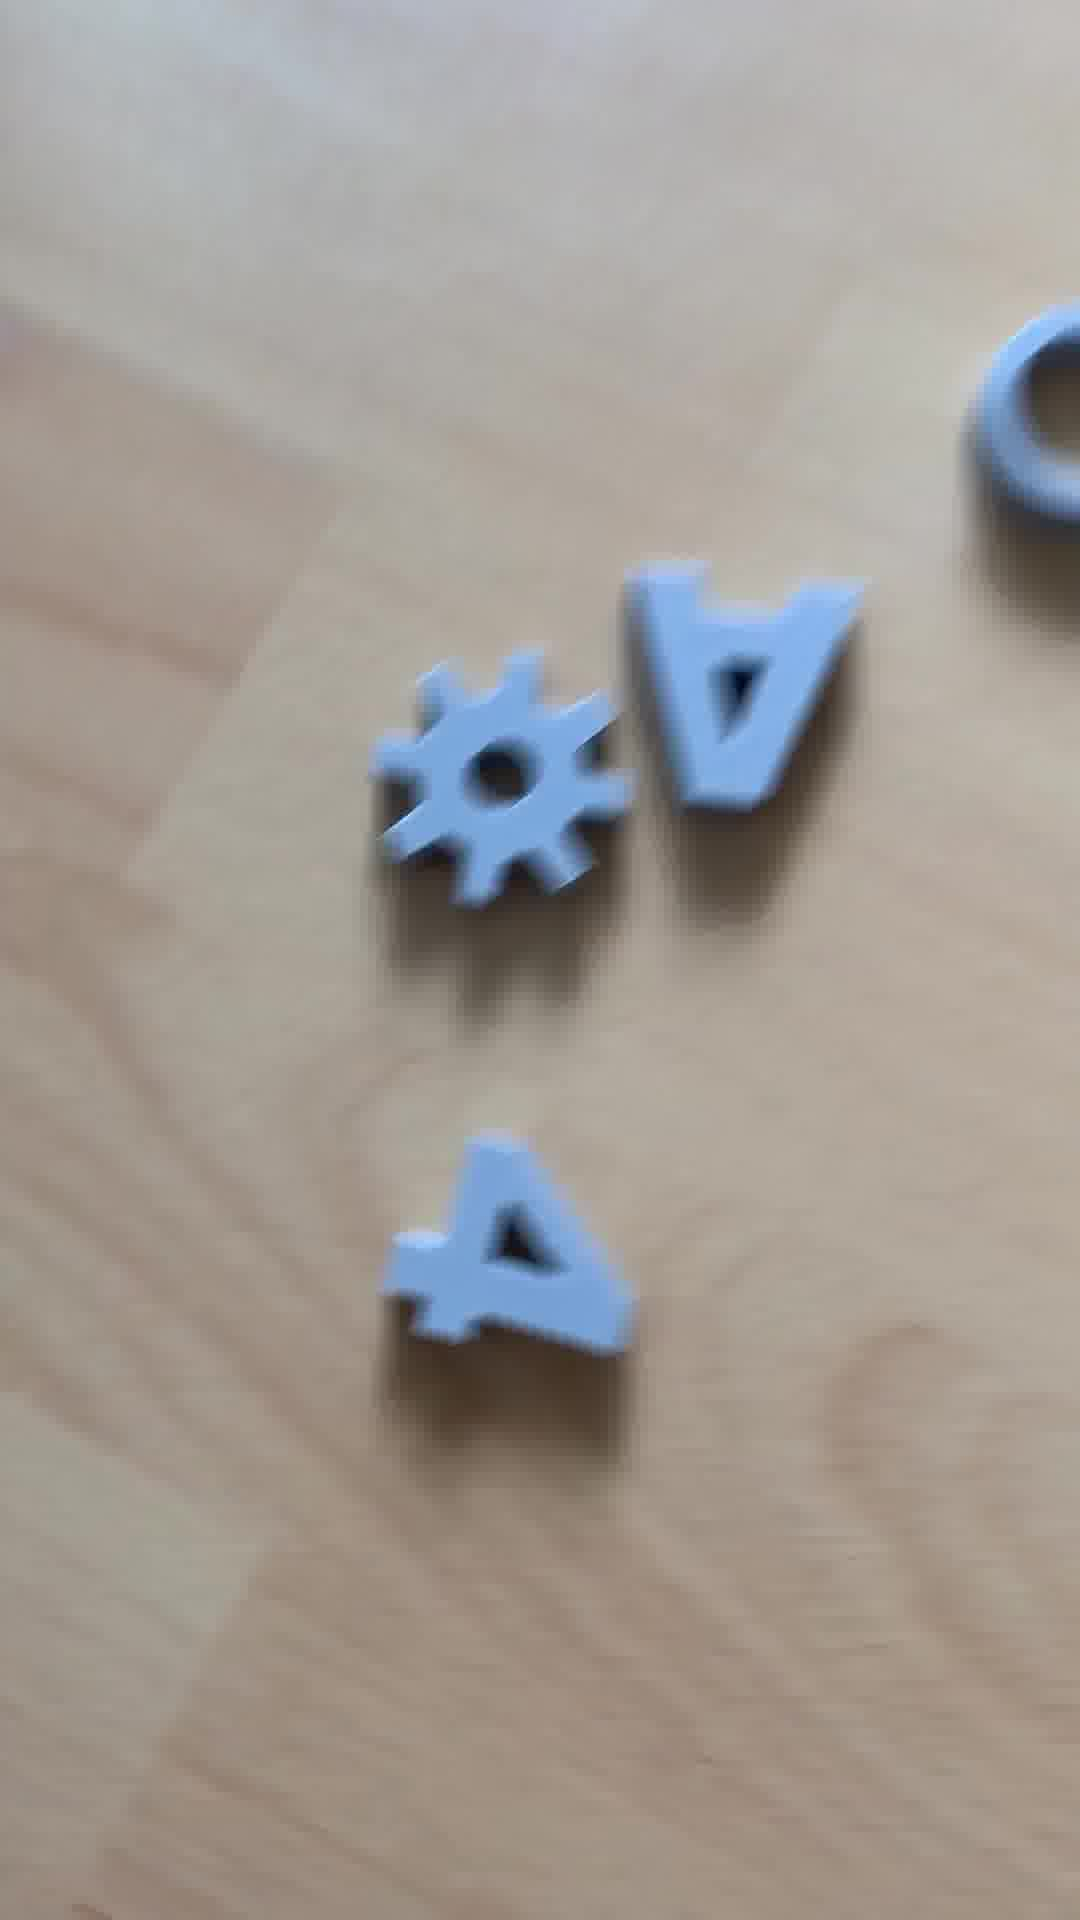Gray A-letter: (608, 549, 887, 839)
Gray four: (360, 1130, 662, 1371)
Gray gear: (360, 646, 636, 910)
Gray ring: (947, 310, 1080, 535)
